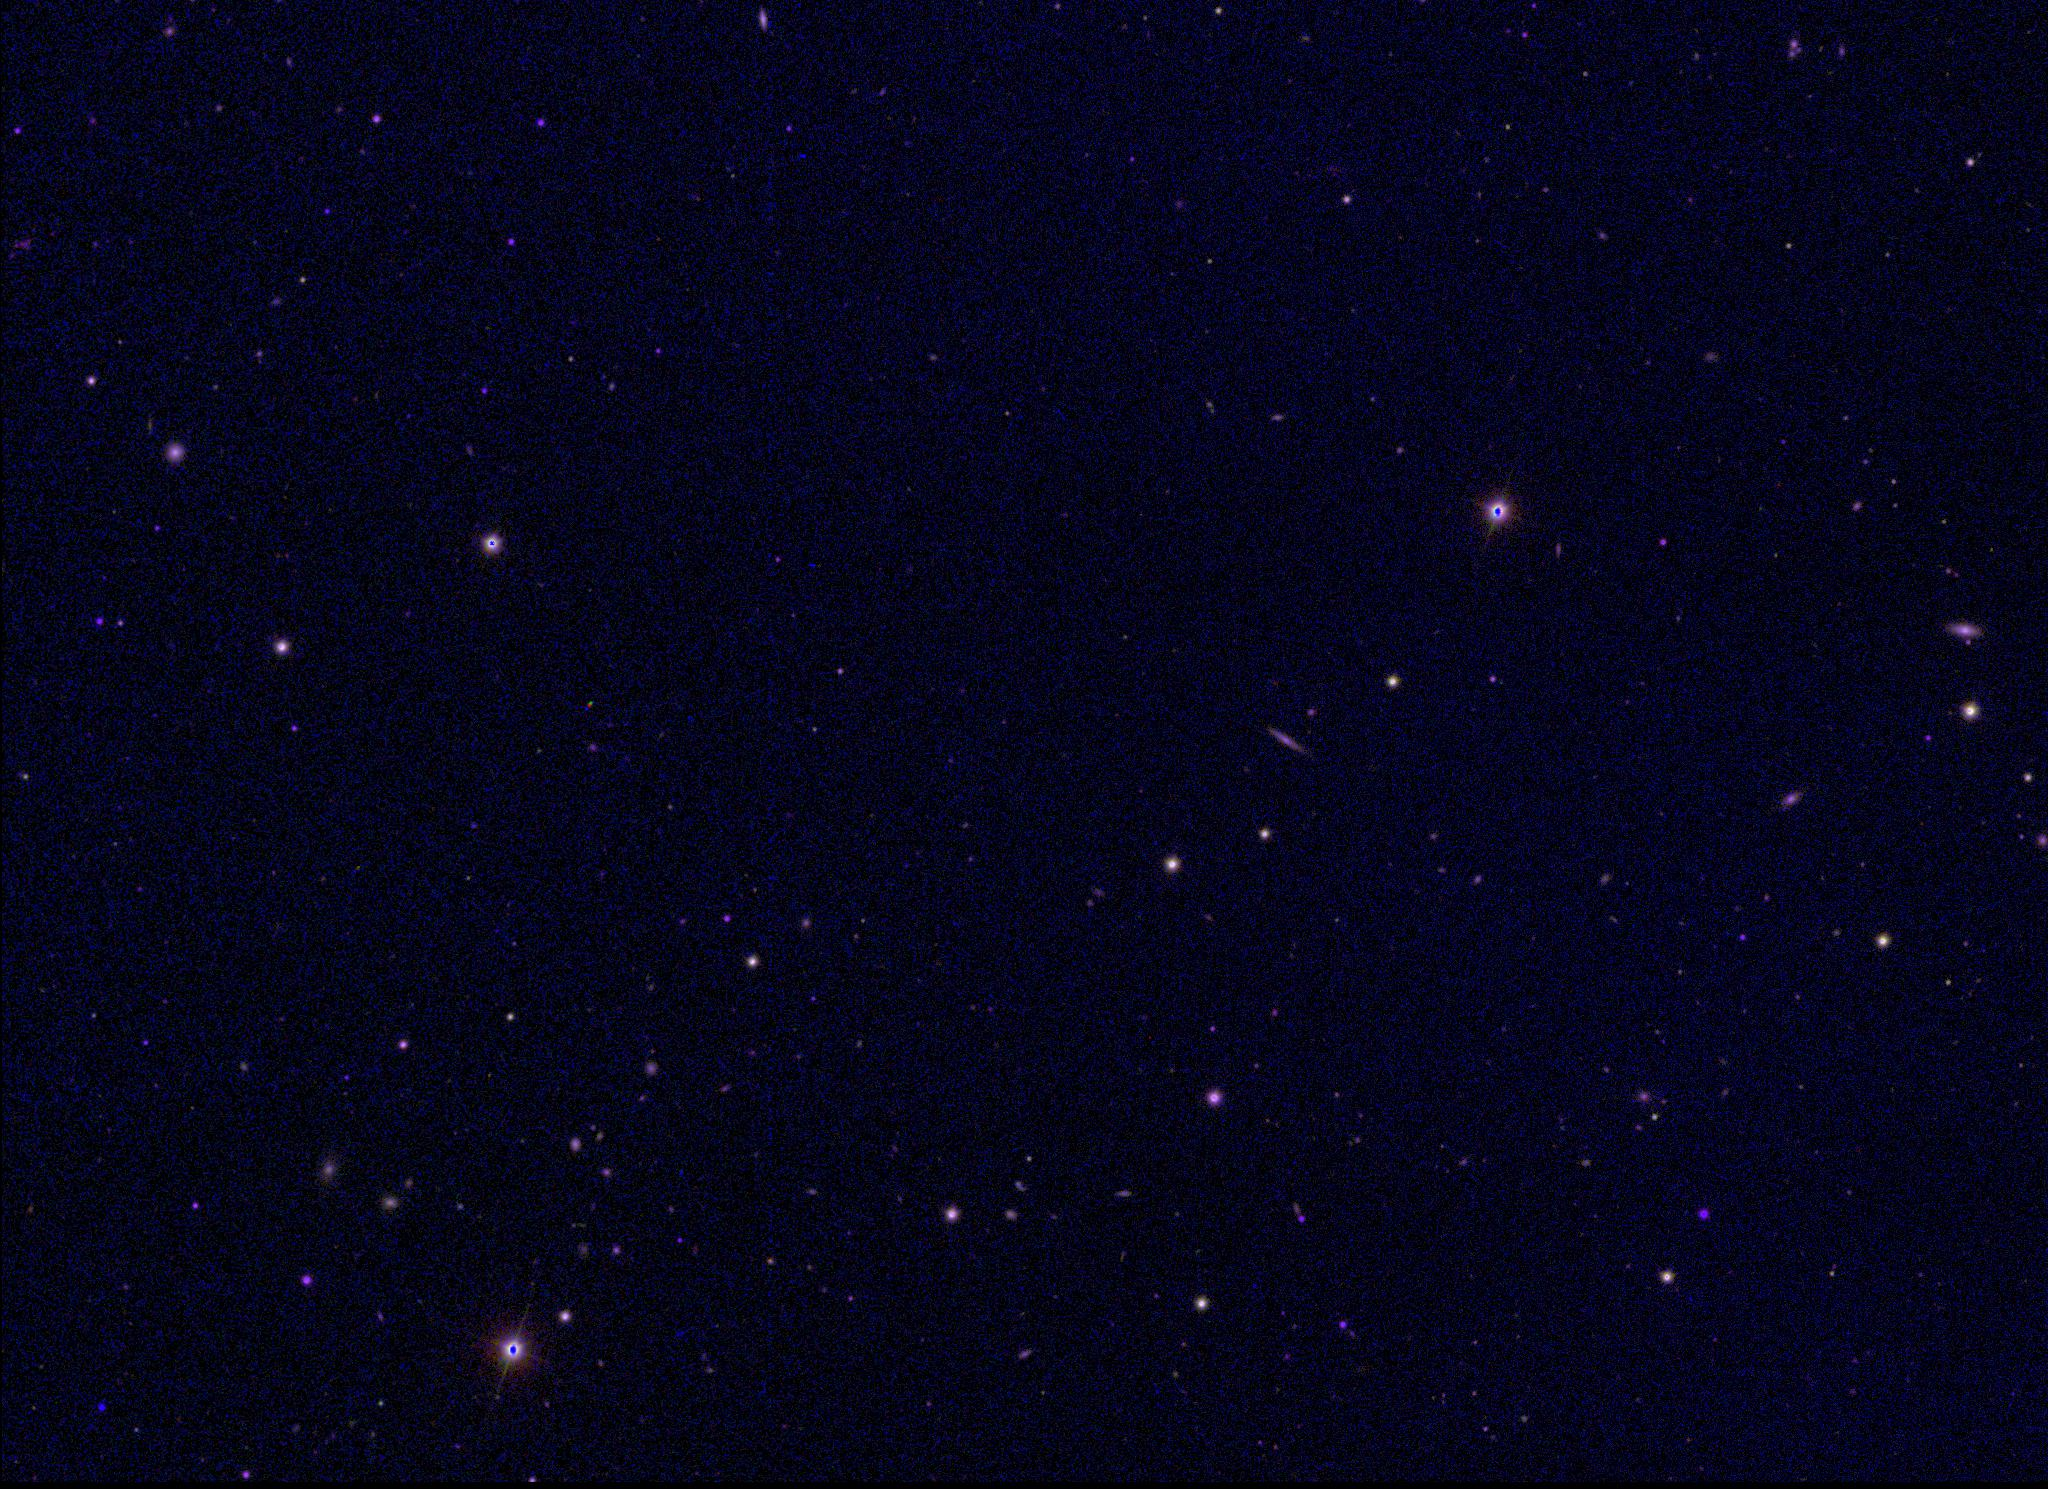L: (94, 1398, 108, 1413)
